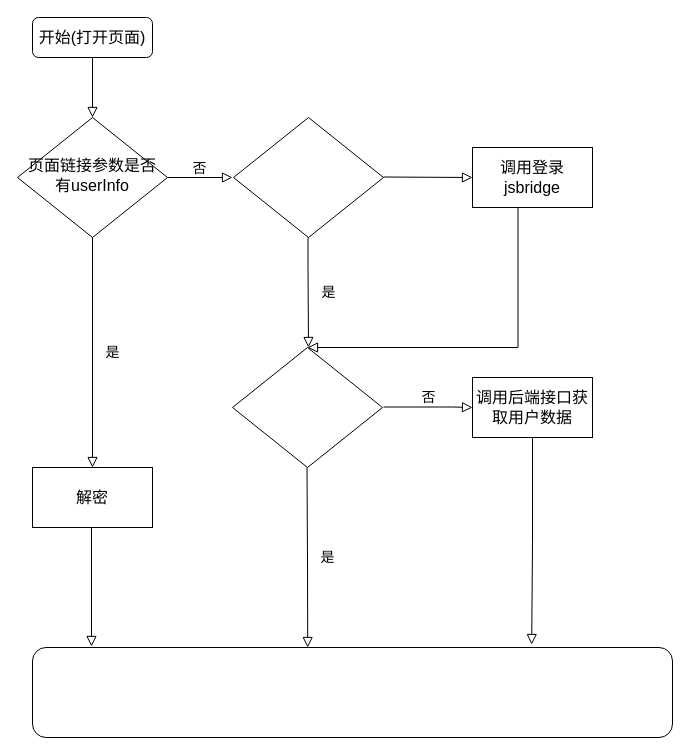
The diagram is 690 pixels wide and 755 high, and some of its shapes have lost their labels. The box of each missing label's shape, as (x1, y1, x2, y2) in pixels:
jsbridge获取用户信息，判断是是否登录: (232, 116, 384, 238)
用户信息中是否含有完成的数据信息: (232, 346, 382, 468)
用户完整数据: (32, 646, 672, 738)
